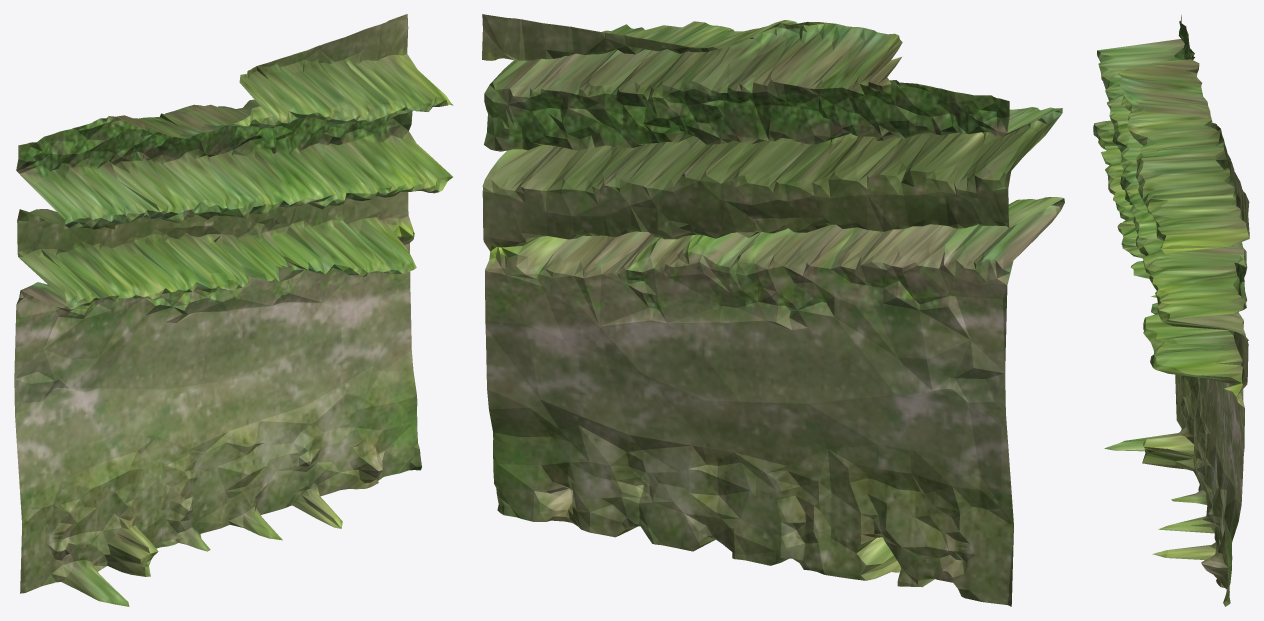
The model's file is map_10_0.obj.
The picture shows the model from 3 angles, left to right: view 1: azimuth 30°, elevation 25°; view 2: azimuth 150°, elevation 25°; view 3: azimuth 270°, elevation 25°; orthographic projection. The views are drawn at different scales.
Parts seen in each view (by area): view 1: grp1; view 2: grp1; view 3: grp1.
Boxes of the visible parts, <box> form: grp1: <box>14,14,453,606</box>; grp1: <box>482,14,1064,606</box>; grp1: <box>1093,15,1249,606</box>.
Size of the model in its own units: 10 by 10 by 3.51.
1 material, 1 textured.
